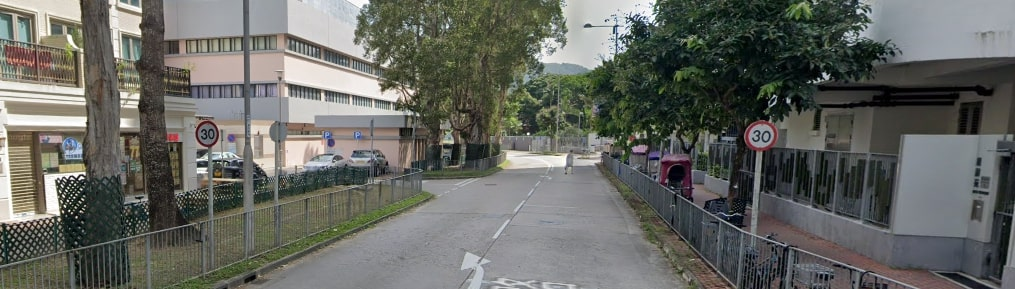Speed Limit: (747, 118, 779, 153), (197, 119, 224, 152)
